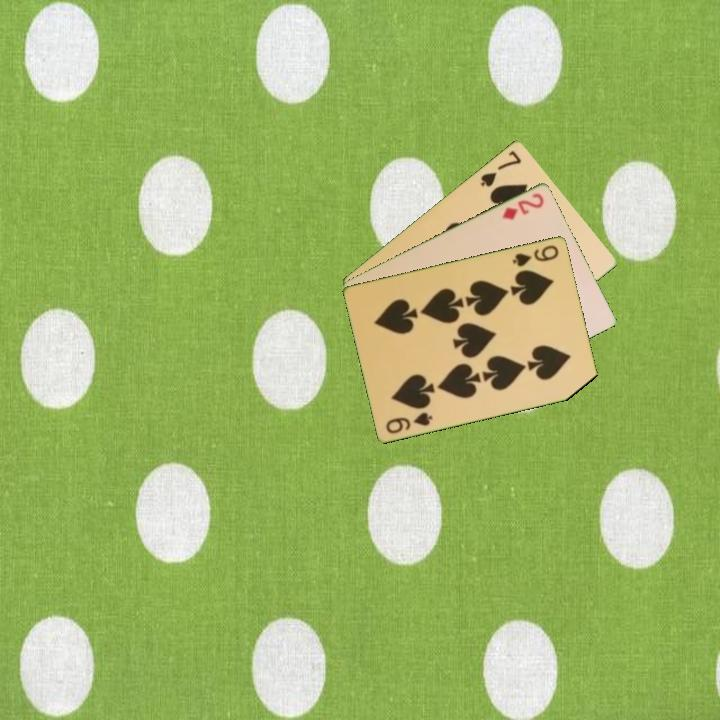2d: (498, 189, 547, 223)
7s: (477, 146, 524, 190)
9s: (382, 408, 436, 436), (509, 241, 562, 269)
